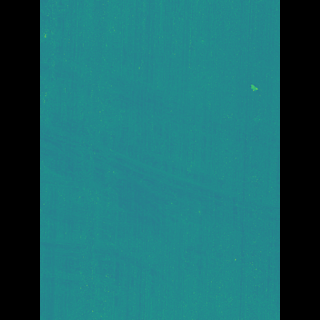Loch: (70, 105, 245, 319)
